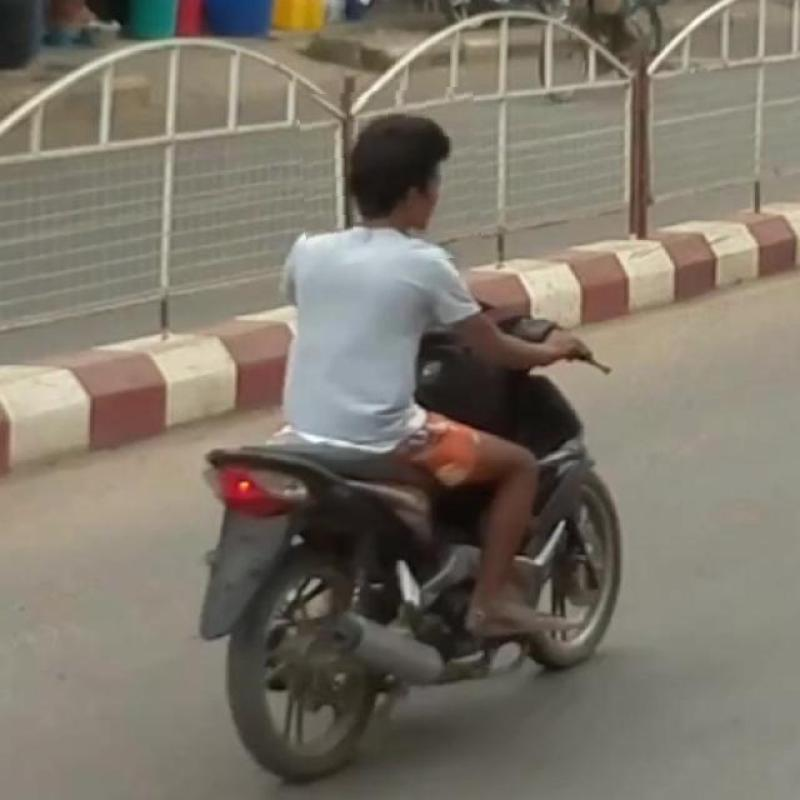nohelmet: (300, 88, 479, 263)
